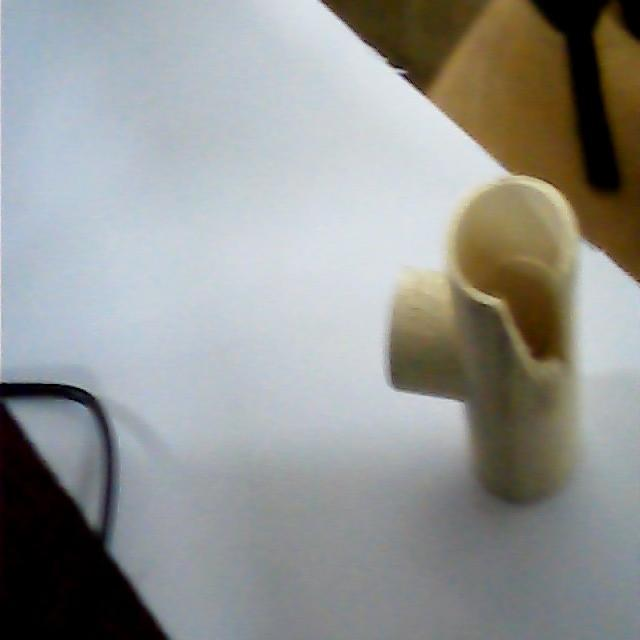Defective: (498, 272, 574, 388)
T Joint: (384, 175, 584, 508)
